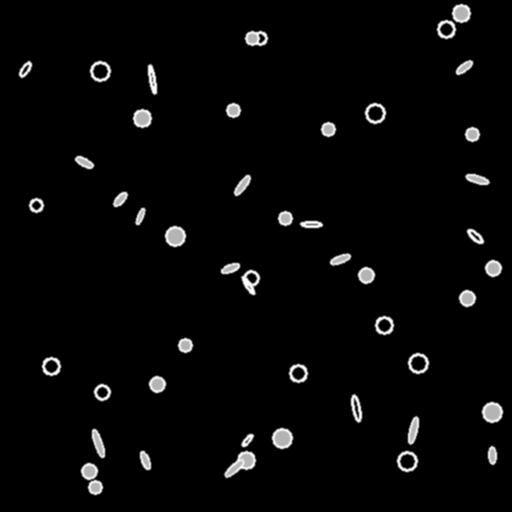pseudomonas: (223, 458, 245, 478), (233, 174, 251, 196), (91, 429, 105, 457), (465, 172, 489, 186), (466, 227, 484, 245), (407, 417, 419, 443), (329, 252, 351, 266), (455, 59, 473, 75), (241, 275, 255, 295), (147, 65, 157, 93), (351, 395, 361, 421), (112, 191, 128, 207), (75, 155, 93, 169), (18, 60, 32, 78), (221, 262, 239, 274), (139, 451, 151, 469), (240, 433, 254, 447), (135, 208, 145, 224), (488, 446, 496, 464), (301, 221, 321, 227)
synechocystis: (398, 452, 416, 470), (166, 227, 184, 245), (273, 429, 291, 447), (483, 403, 501, 421), (409, 354, 427, 372), (366, 104, 384, 122), (91, 62, 109, 80), (376, 317, 392, 333), (438, 21, 454, 37), (134, 110, 150, 126), (238, 452, 254, 468), (43, 358, 59, 374), (290, 365, 306, 381), (453, 5, 469, 21), (95, 385, 109, 399), (150, 377, 164, 391), (460, 291, 474, 305), (486, 261, 500, 275), (82, 464, 96, 478), (359, 268, 373, 282), (244, 271, 258, 285), (279, 212, 291, 224), (466, 128, 478, 140), (227, 104, 239, 116), (179, 339, 191, 351), (89, 481, 101, 493), (322, 123, 334, 135), (254, 32, 266, 44), (30, 199, 42, 211), (246, 32, 258, 44)
